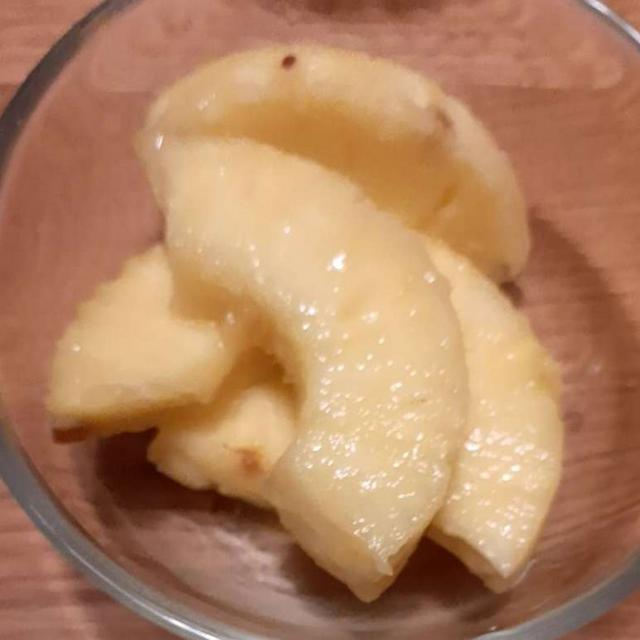pineapple: (50, 70, 560, 595)
